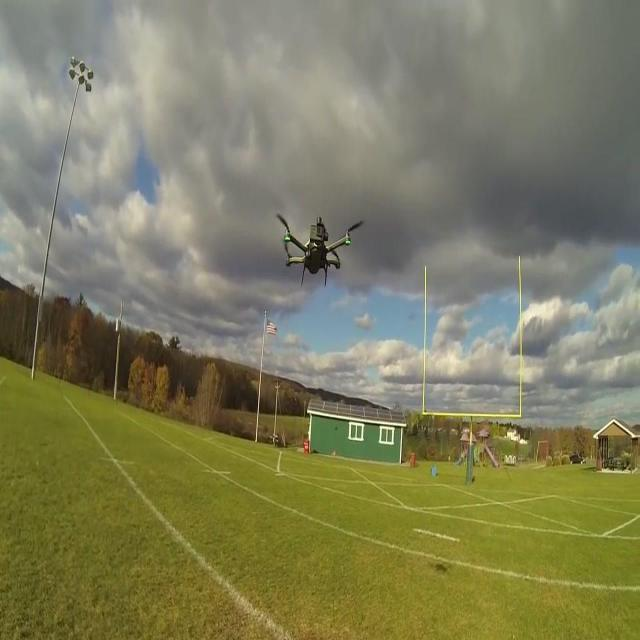UAV: (276, 213, 364, 288)
